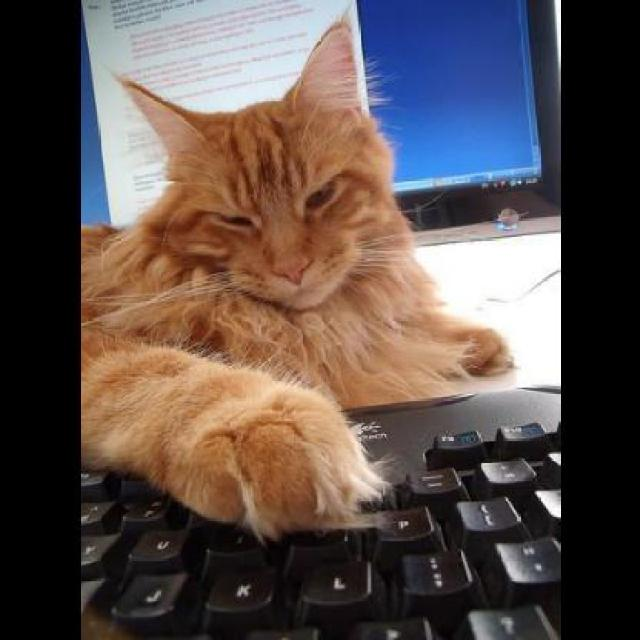unauthorized: (78, 9, 517, 543)
